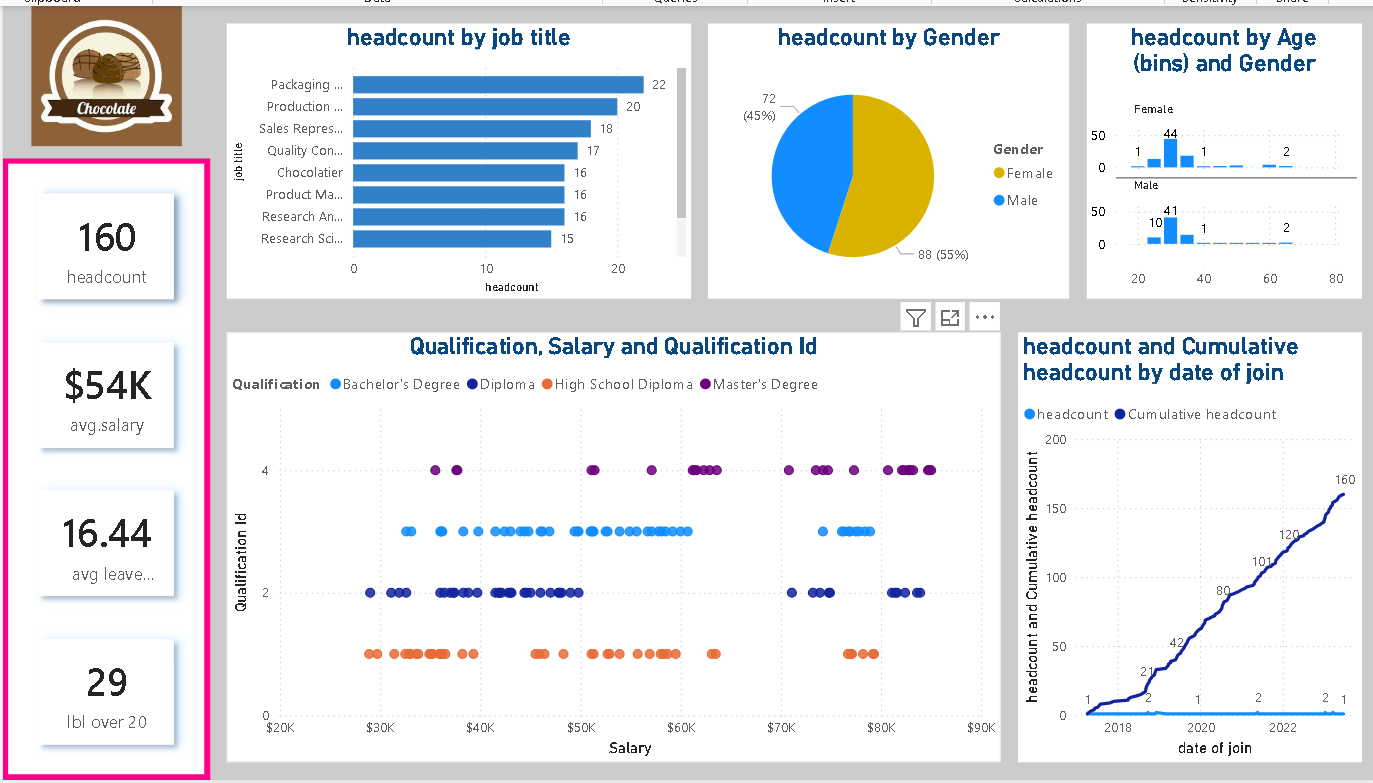

The page's visual inventory and layout, read from the dashboard file:
{"tool":"powerbi","page":{"name":"Page 10","canvas":[1280,720],"ordinal":9},"visuals":[{"type":"cardVisual","fields":{"Data":["data.headcount","data.avg.salary","data.avg leave balance","data.lbl over 20"]},"box":[0,141.4,192.9,578.6],"z":0},{"type":"clusteredBarChart","fields":{"Category":["data.Chocolatier"],"Y":["data.headcount"]},"box":[208,16,432,256],"z":1000},{"type":"pieChart","fields":{"Category":["data.Gender"],"Y":["data.headcount"]},"box":[656,16,336,256],"z":2000},{"type":"columnChart","fields":{"Category":["data.Age (bins)"],"Y":["data.headcount"],"Rows":["data.Gender"]},"box":[1008,16,256,256],"z":3000},{"type":"scatterChart","fields":{"X":["data.Salary"],"Y":["Education qualification.Qualification Id"],"Series":["Education qualification.Qualification"]},"box":[208,304,720,400],"z":4000},{"type":"lineChart","fields":{"Y":["data.headcount","data.Cumulative headcount"],"Category":["data.date of join"]},"box":[944,304,320,400],"z":5000},{"type":"image","box":[0,0,192.9,130],"z":6000}]}

Visuals, with their boxes on the page's 1280x720 design canvas (x1, y1, x2, y2). These are canvas units, not pixel positions in the 1373x783 screenshot, which may show the page scaled, cropped or inside an application window:
cardVisual - data.headcount x data.avg.salary: BBox(0, 141, 193, 720)
clusteredBarChart - data.Chocolatier x data.headcount: BBox(208, 16, 640, 272)
pieChart - data.Gender x data.headcount: BBox(656, 16, 992, 272)
columnChart - data.Age (bins) x data.headcount: BBox(1008, 16, 1264, 272)
scatterChart - data.Salary x Education qualification.Qualification Id: BBox(208, 304, 928, 704)
lineChart - data.headcount x data.Cumulative headcount: BBox(944, 304, 1264, 704)
image: BBox(0, 0, 193, 130)
